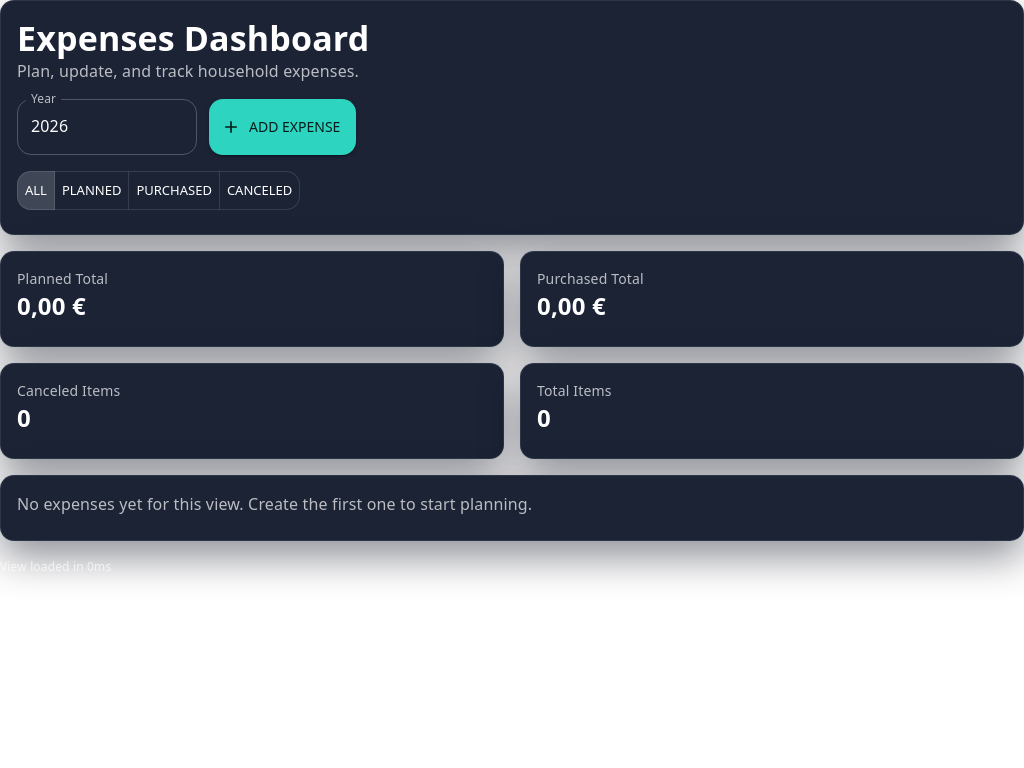
Scenario: Expenses conflict regression › shows error feedback when save fails
The image size is (1024, 768).
Step 1. Click the button "Add expense" → (283,127), box [209,99,356,155]
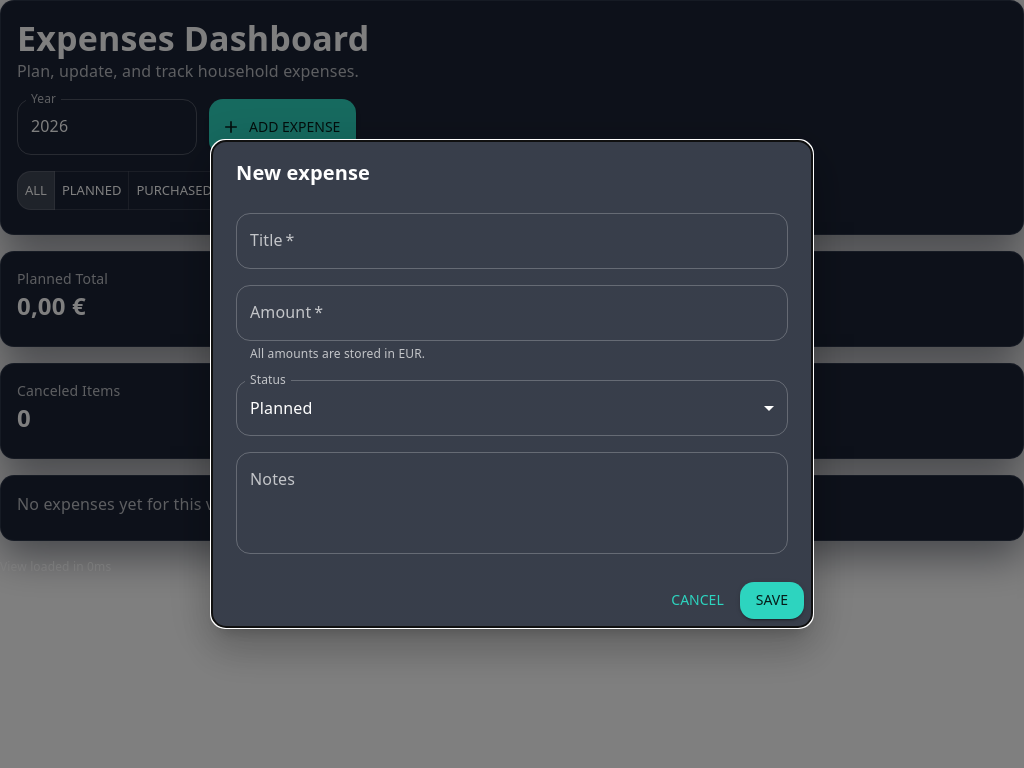
Step 2. Type "Rent" into the field labelled "Title *" → (512,241), box [236,213,788,269]
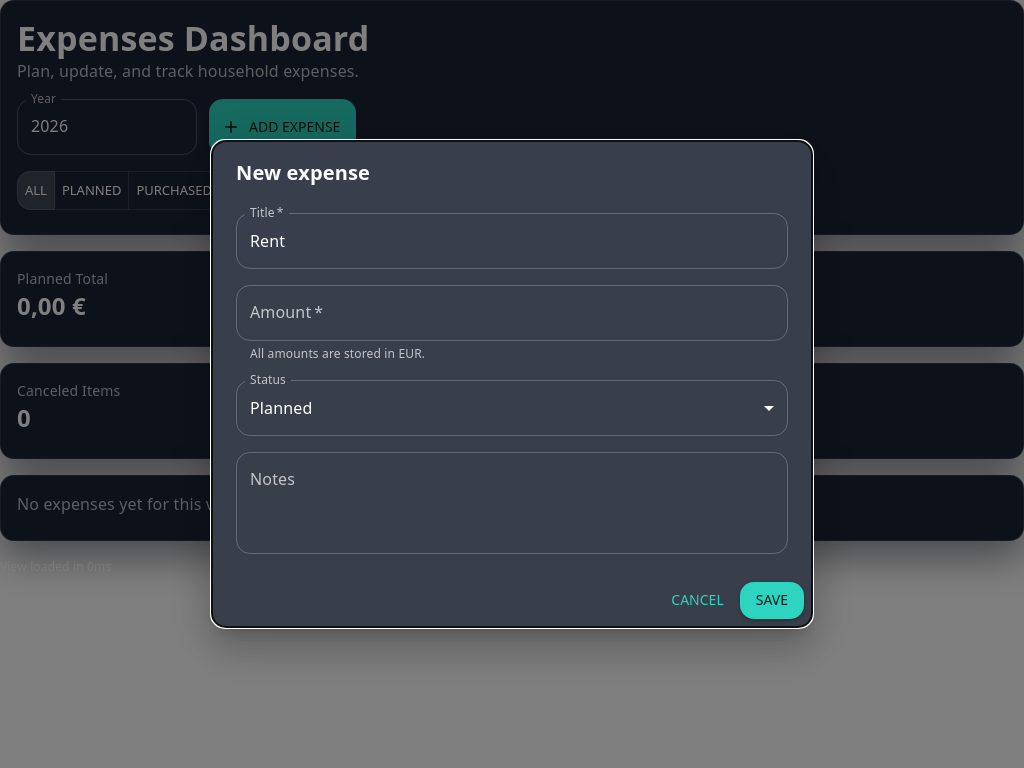
Step 3. Type "1000" into the number field labelled "Amount *" → (512,313), box [236,285,788,341]
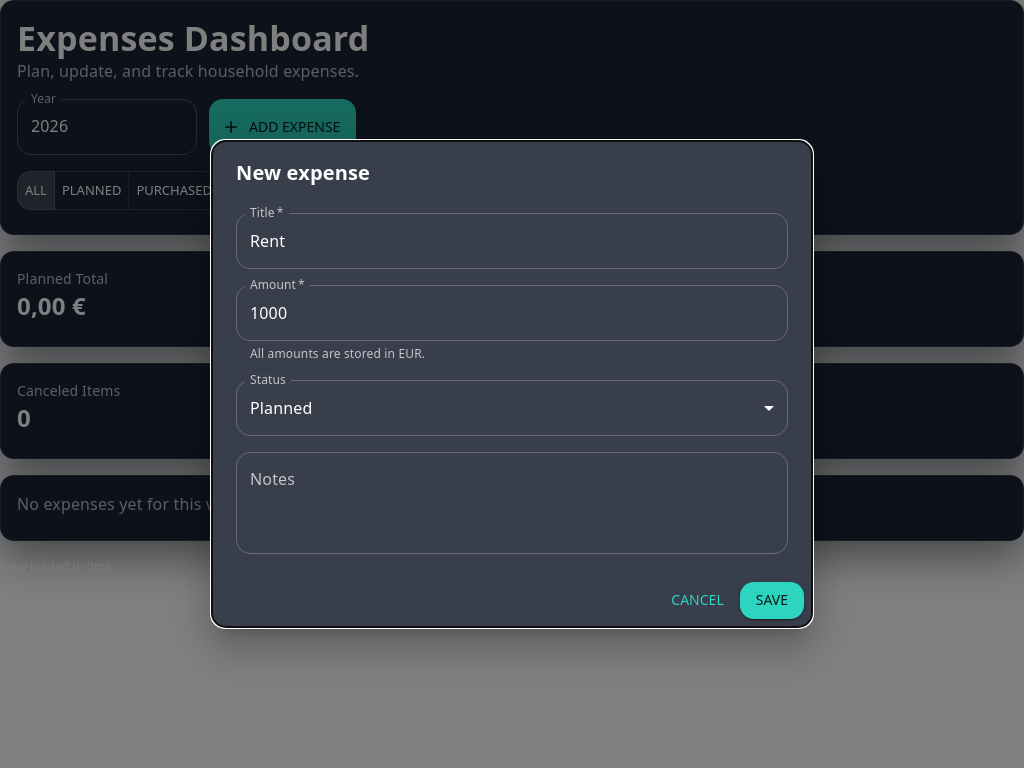
Step 4. Click the button "Save" → (772,600), box [740,582,804,619]
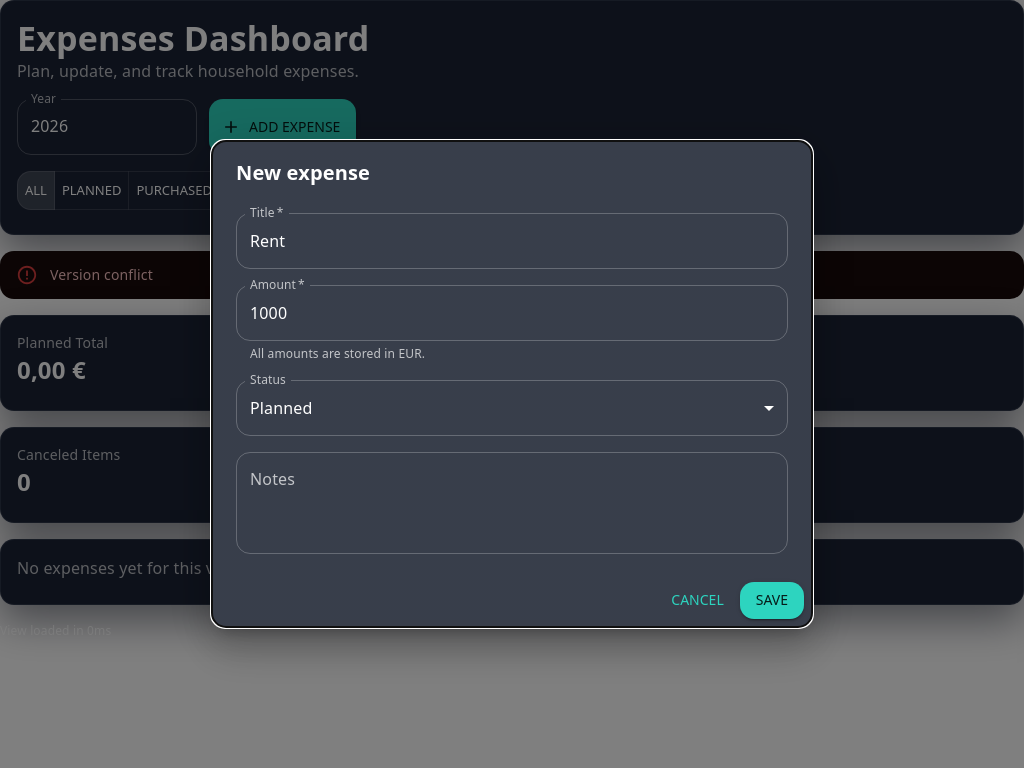
Check: the text "Version conflict" is shown, box [50,265,153,284]
